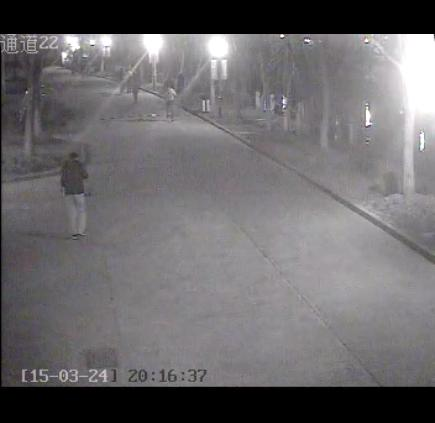person: (51, 147, 92, 233), (159, 81, 185, 121), (121, 68, 145, 104)
